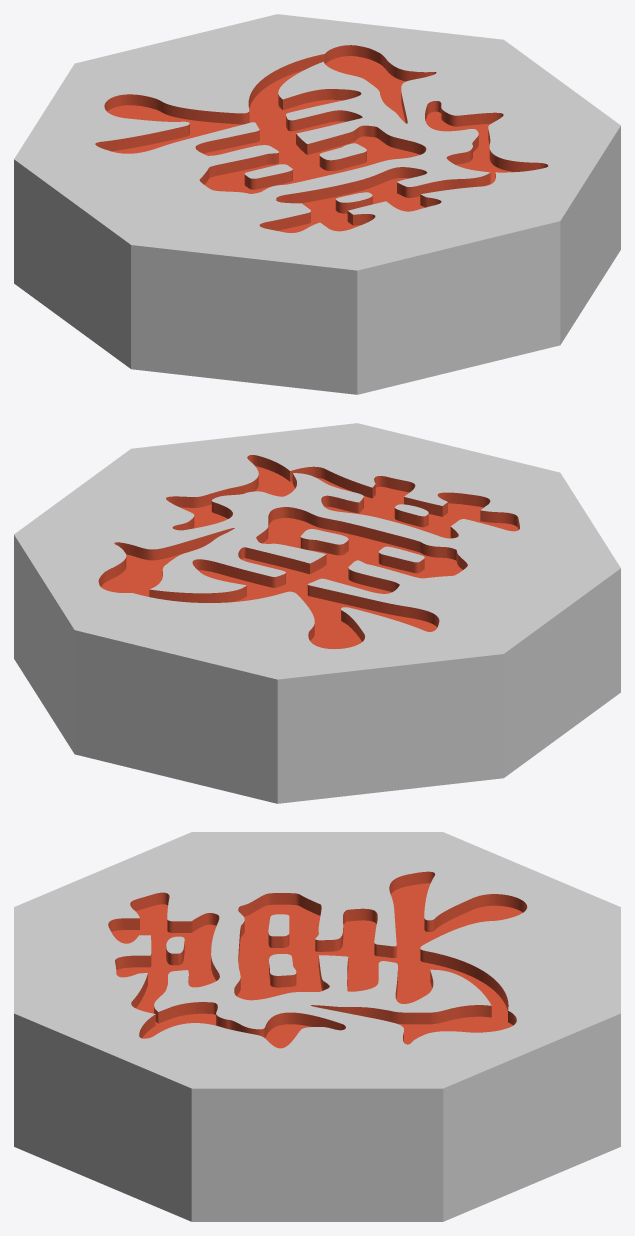
The picture shows the model from 3 angles, top to bottom: view 1: azimuth 30°, elevation 25°; view 2: azimuth 150°, elevation 25°; view 3: azimuth 270°, elevation 25°; orthographic projection. The views are drawn at different scales.
Parts seen in each view (by area): view 1: 한_궁; view 2: 한_궁; view 3: 한_궁.
Boxes of the visible parts, left/top/right/bottom form: 한_궁: left=14, top=14, right=620, bottom=394; 한_궁: left=14, top=423, right=620, bottom=803; 한_궁: left=14, top=832, right=620, bottom=1221.
Size of the model in its own units: 3300 by 800 by 3300.
